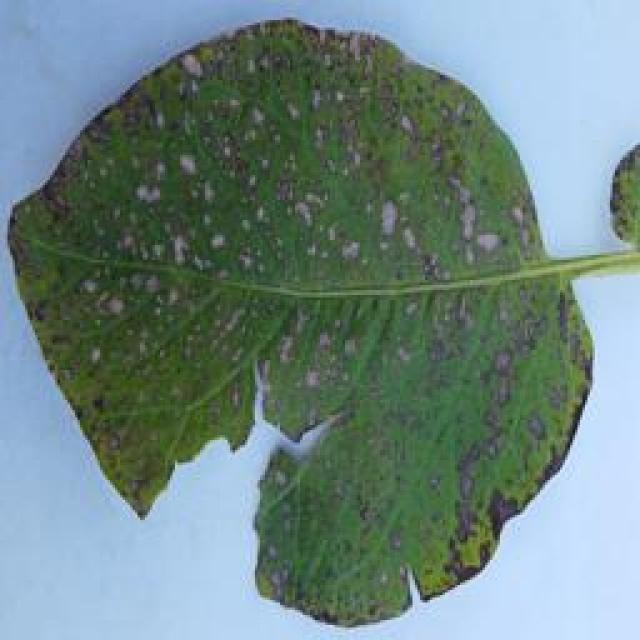Potato_Early_Blight: (11, 14, 599, 628)
